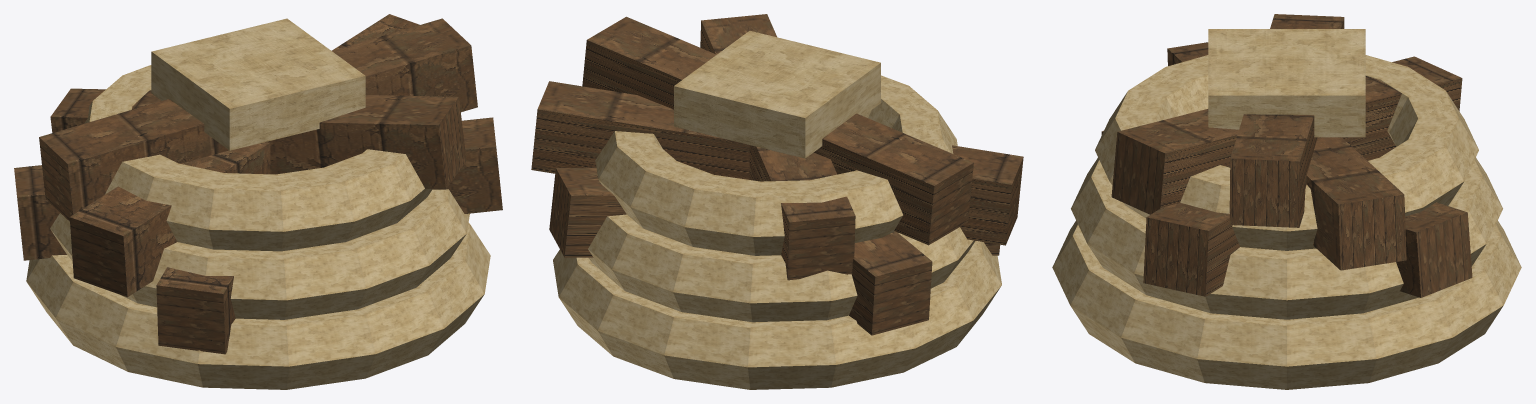
The model's file is ITM_TINDER_001.obj.
3 views of the same model, side by side, from view 1: azimuth 30°, elevation 25°; view 2: azimuth 150°, elevation 25°; view 3: azimuth 270°, elevation 25° (orthographic). The views are drawn at different scales.
Visible parts, largest first — view 1: NestSilhouette, EmberInsertionTarget, BroadDryFiber_3, BroadDryFiber_5, BroadDryFiber_2, BroadDryFiber_4, BroadDryFiber_1; view 2: NestSilhouette, EmberInsertionTarget, BroadDryFiber_3, BroadDryFiber_2, BroadDryFiber_5, BroadDryFiber_4, BroadDryFiber_1; view 3: NestSilhouette, EmberInsertionTarget, BroadDryFiber_5, BroadDryFiber_2, BroadDryFiber_3, BroadDryFiber_4, BroadDryFiber_1.
Boxes of the visible parts, <box> form: NestSilhouette: <box>26,65,490,389</box>; EmberInsertionTarget: <box>151,18,365,150</box>; BroadDryFiber_3: <box>39,18,477,221</box>; BroadDryFiber_5: <box>50,88,466,189</box>; BroadDryFiber_2: <box>69,14,419,297</box>; BroadDryFiber_4: <box>14,117,502,260</box>; BroadDryFiber_1: <box>156,267,235,354</box>; NestSilhouette: <box>553,75,1001,389</box>; EmberInsertionTarget: <box>674,31,880,158</box>; BroadDryFiber_3: <box>582,16,973,245</box>; BroadDryFiber_2: <box>531,81,1023,245</box>; BroadDryFiber_5: <box>700,14,855,280</box>; BroadDryFiber_4: <box>849,231,932,335</box>; BroadDryFiber_1: <box>549,167,1000,257</box>; NestSilhouette: <box>1052,55,1521,389</box>; EmberInsertionTarget: <box>1208,29,1365,137</box>; BroadDryFiber_5: <box>1111,56,1462,214</box>; BroadDryFiber_2: <box>1167,42,1406,270</box>; BroadDryFiber_3: <box>1229,14,1344,227</box>; BroadDryFiber_4: <box>1143,202,1239,296</box>; BroadDryFiber_1: <box>1101,130,1472,297</box>.
Bounding box in the file's own units: 0.27 × 0.1416 × 0.254.
3 materials, 3 textured.
